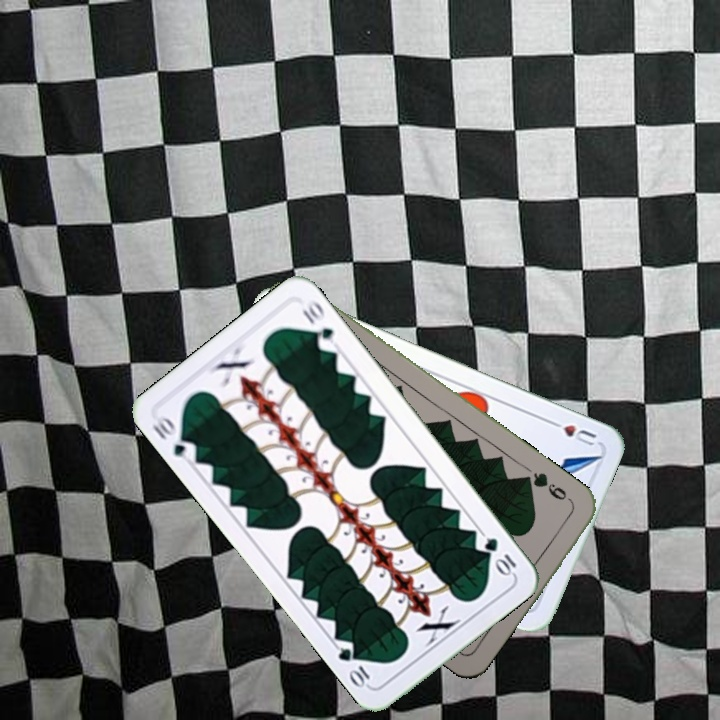G10: (148, 412, 200, 465), (480, 533, 519, 579)
G9: (521, 468, 576, 507)
HU: (544, 415, 599, 449)
